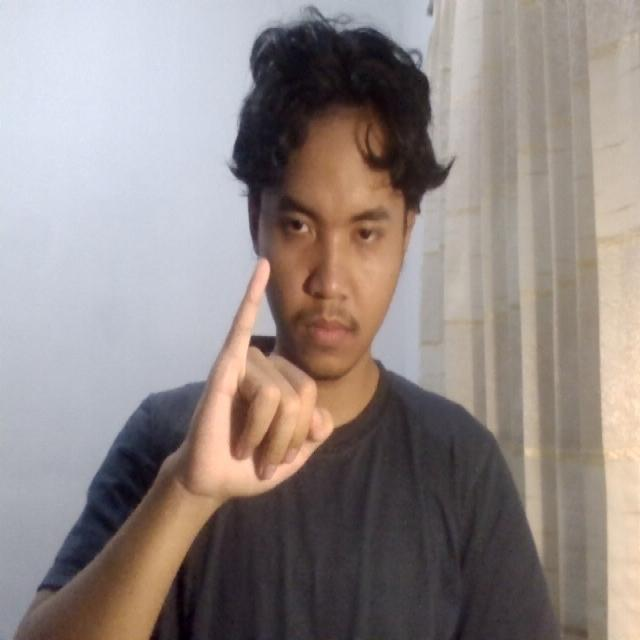Hello: (170, 247, 348, 524)
